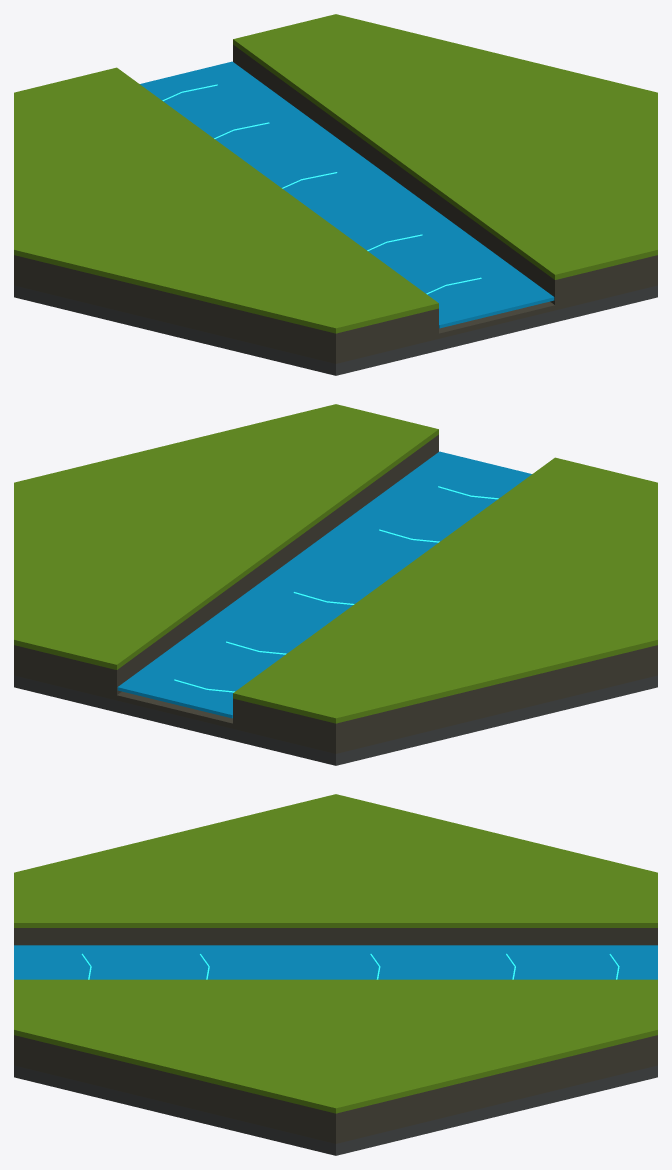
Rendered from forest_hex_stream.glb.
3 renders of one model, top to bottom at view 1: azimuth 30°, elevation 25°; view 2: azimuth 150°, elevation 25°; view 3: azimuth 270°, elevation 25°, orthographic.
Visible parts, largest first — view 1: Meadow river bank, Meadow river bank.001, Continuous river water, Cut river bank, Cut river bank.001, River hex stone foundation, River hex bed; view 2: Meadow river bank, Meadow river bank.001, Continuous river water, Cut river bank, Cut river bank.001, River hex stone foundation, River hex bed; view 3: Meadow river bank.001, Meadow river bank, Continuous river water, Cut river bank.001, Cut river bank, River hex stone foundation, River hex bed.
Part boxes in pixels (x1,y1,x2,y2): Meadow river bank: [14, 67, 438, 333]; Meadow river bank.001: [233, 14, 657, 279]; Continuous river water: [140, 61, 554, 328]; Cut river bank: [14, 255, 438, 358]; Cut river bank.001: [233, 44, 657, 305]; River hex stone foundation: [14, 285, 657, 375]; River hex bed: [14, 280, 657, 363]; Meadow river bank: [233, 457, 657, 723]; Meadow river bank.001: [14, 404, 438, 669]; Continuous river water: [117, 451, 531, 718]; Cut river bank: [233, 645, 657, 748]; Cut river bank.001: [14, 434, 438, 695]; River hex stone foundation: [14, 675, 657, 765]; River hex bed: [14, 670, 657, 753]; Meadow river bank.001: [14, 979, 657, 1113]; Meadow river bank: [14, 794, 657, 927]; Continuous river water: [14, 945, 657, 979]; Cut river bank.001: [14, 1035, 657, 1138]; Cut river bank: [14, 928, 657, 945]; River hex stone foundation: [14, 1065, 657, 1155]; River hex bed: [14, 1060, 657, 1143].
Size of the model in its own units: 5.1 by 0.36 by 4.42.
